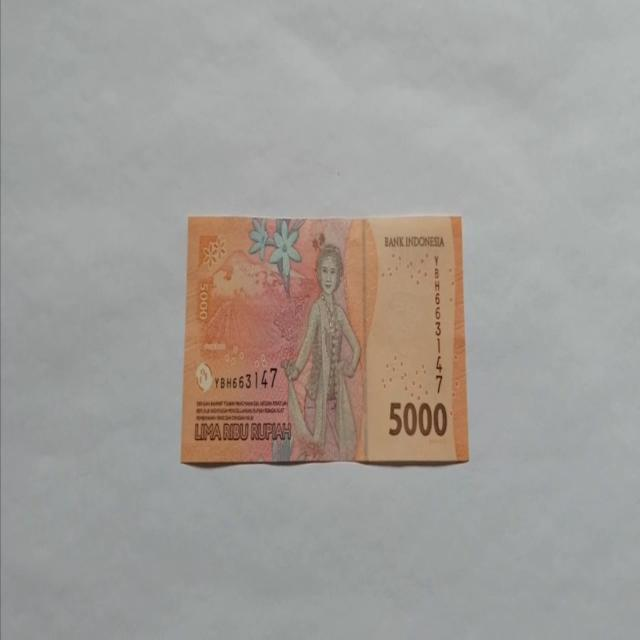lima ribu rupiah: (179, 213, 469, 467), (280, 243, 362, 461)
